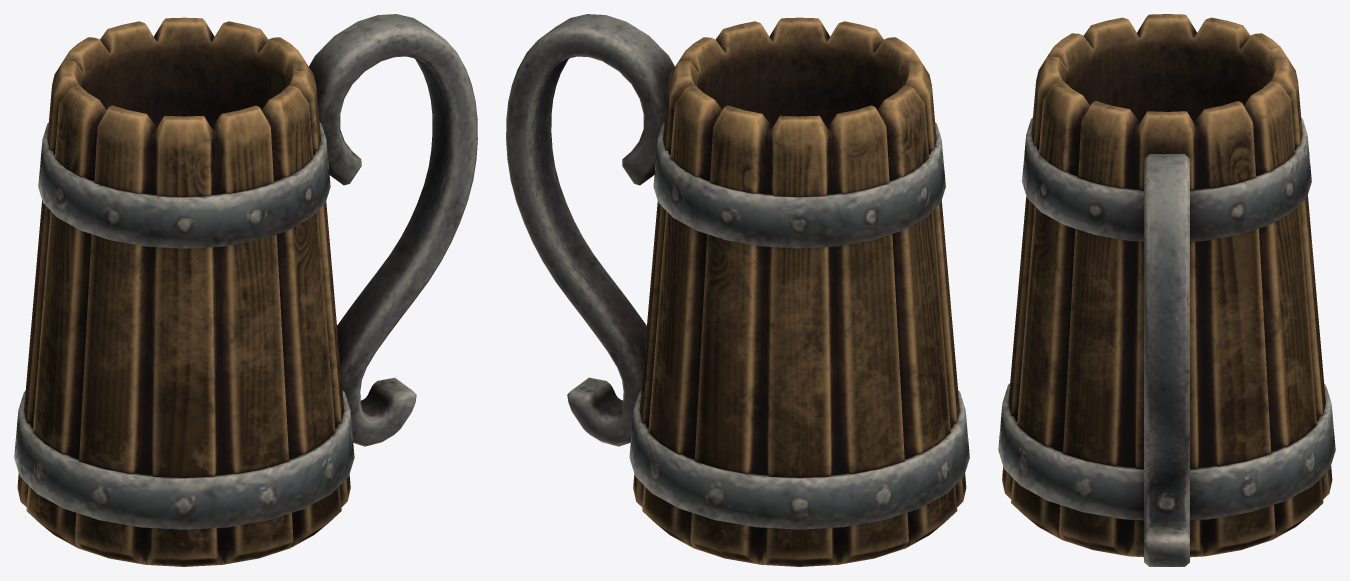
The model's file is beer.gltf.
The picture shows the model from 3 angles, left to right: view 1: azimuth 30°, elevation 25°; view 2: azimuth 150°, elevation 25°; view 3: azimuth 270°, elevation 25°; orthographic projection.
Visible parts, largest first — view 1: Mug; view 2: Mug; view 3: Mug.
Boxes of the visible parts, x1,y1,x2,y2 form: Mug: [14, 14, 477, 566]; Mug: [506, 14, 969, 566]; Mug: [998, 14, 1335, 566].
Bounding box in the file's own units: 3.09 × 2.97 × 2.11.
Materials: 1 (1 with a texture image).
